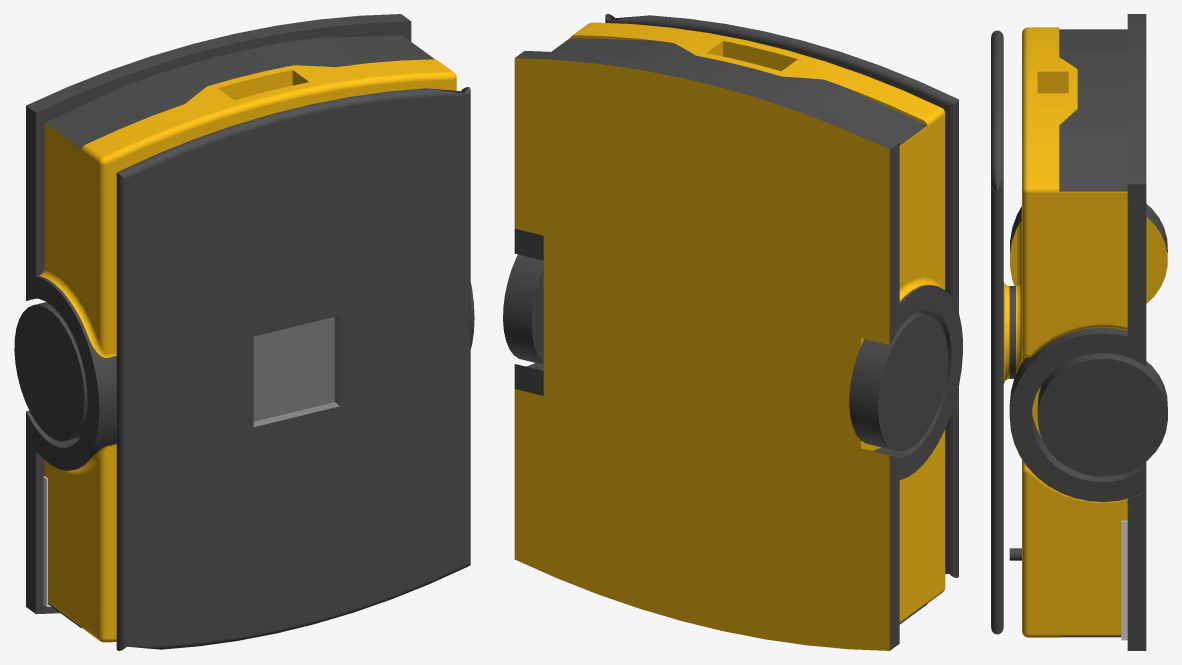
The model's file is AMR.glb.
3 renders of one model, left to right at view 1: azimuth 30°, elevation 25°; view 2: azimuth 150°, elevation 25°; view 3: azimuth 270°, elevation 25°, orthographic. The views are drawn at different scales.
Parts seen in each view (by area): view 1: Part 1, Part 5; view 2: Part 1, Part 5, Part 2, Part 3; view 3: Part 1, Part 2, Part 5, Part 3.
Part boxes in pixels (x1,y1,x2,y2): Part 1: [14, 14, 470, 650]; Part 5: [45, 35, 434, 149]; Part 1: [514, 14, 962, 650]; Part 5: [551, 38, 927, 145]; Part 2: [503, 254, 543, 364]; Part 3: [514, 229, 543, 395]; Part 1: [991, 14, 1167, 650]; Part 2: [1037, 353, 1167, 476]; Part 5: [1059, 29, 1127, 191]; Part 3: [1009, 327, 1146, 501].
Size of the model in its own units: 0.065 by 0.0899 by 0.0285.
